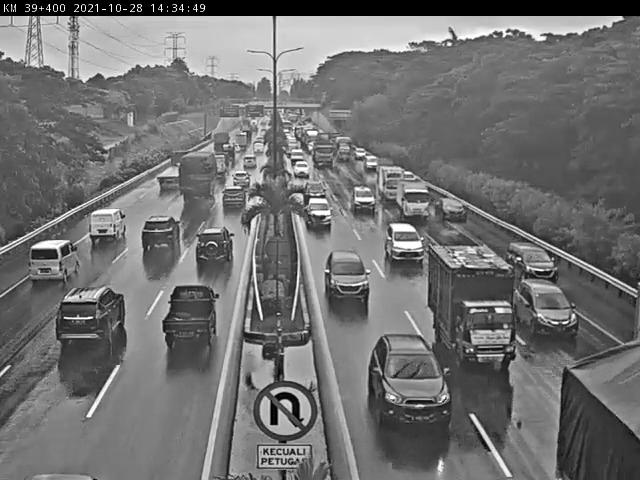big truck: (178, 155, 216, 210), (312, 135, 336, 169)
car: (363, 321, 461, 440), (157, 277, 227, 356), (56, 283, 131, 348), (513, 274, 577, 339), (326, 247, 378, 314), (23, 232, 87, 284), (502, 238, 561, 286), (383, 215, 424, 273), (142, 211, 181, 262), (196, 220, 237, 266), (88, 204, 132, 246), (436, 190, 473, 233), (299, 195, 332, 232), (219, 181, 250, 218), (348, 184, 368, 219), (293, 160, 314, 180), (232, 170, 252, 190), (305, 184, 330, 200), (240, 153, 259, 169), (363, 155, 382, 171), (354, 143, 370, 161)
small truck: (427, 239, 521, 383), (559, 340, 640, 459), (158, 147, 196, 197), (398, 178, 432, 223), (378, 166, 408, 202)
